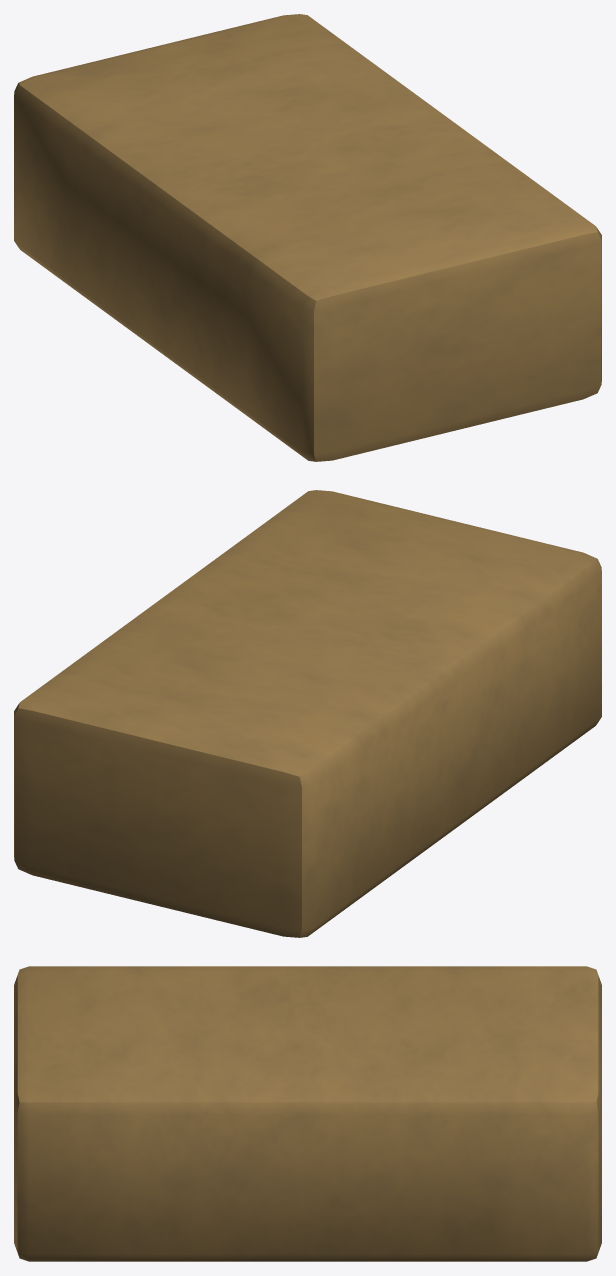
File: Platform Wide Small.fbx
The picture shows the model from 3 angles, top to bottom: view 1: azimuth 30°, elevation 25°; view 2: azimuth 150°, elevation 25°; view 3: azimuth 270°, elevation 25°; orthographic projection. The views are drawn at different scales.
Visible parts, largest first — view 1: Platform Wide Small; view 2: Platform Wide Small; view 3: Platform Wide Small.
Boxes of the visible parts, <box> form: Platform Wide Small: <box>14,14,601,461</box>; Platform Wide Small: <box>14,490,601,937</box>; Platform Wide Small: <box>14,966,601,1261</box>.
Bounding box in the file's own units: 45.72 × 80.25 × 25.
